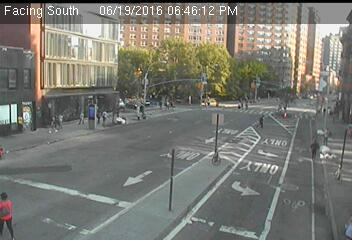neg: (271, 175, 301, 215), (126, 169, 154, 206), (220, 185, 245, 219), (81, 100, 103, 129), (41, 58, 62, 86), (13, 111, 34, 139), (208, 144, 226, 168), (239, 45, 257, 69), (77, 58, 93, 80), (165, 151, 181, 172), (22, 154, 38, 175), (201, 39, 217, 59), (85, 143, 100, 164), (154, 49, 169, 69), (67, 178, 82, 198), (107, 53, 122, 72), (14, 78, 28, 97), (211, 111, 225, 129), (264, 68, 278, 86), (313, 72, 327, 90), (142, 118, 155, 137), (286, 38, 299, 55), (89, 29, 101, 46)
pos: (1, 188, 36, 236), (308, 137, 327, 161), (253, 110, 268, 129)
